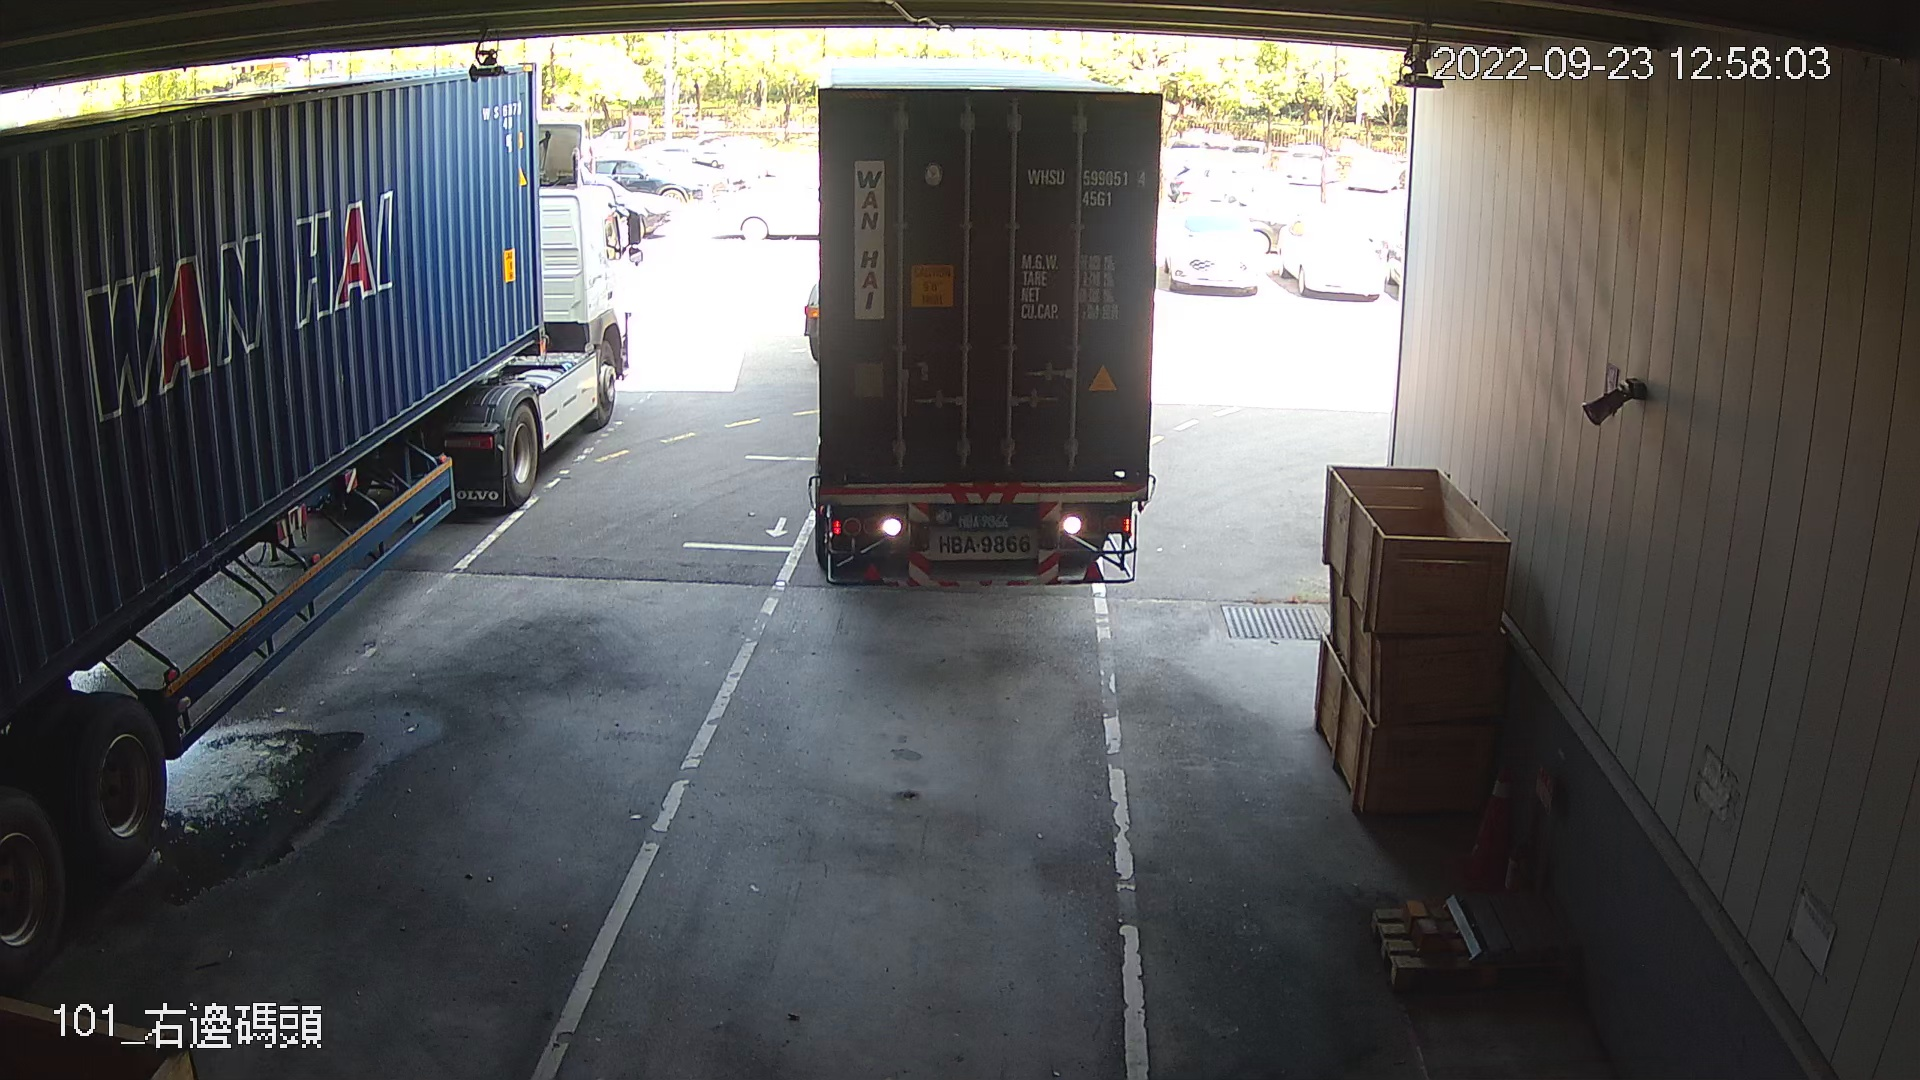container: (1023, 154, 1156, 218)
